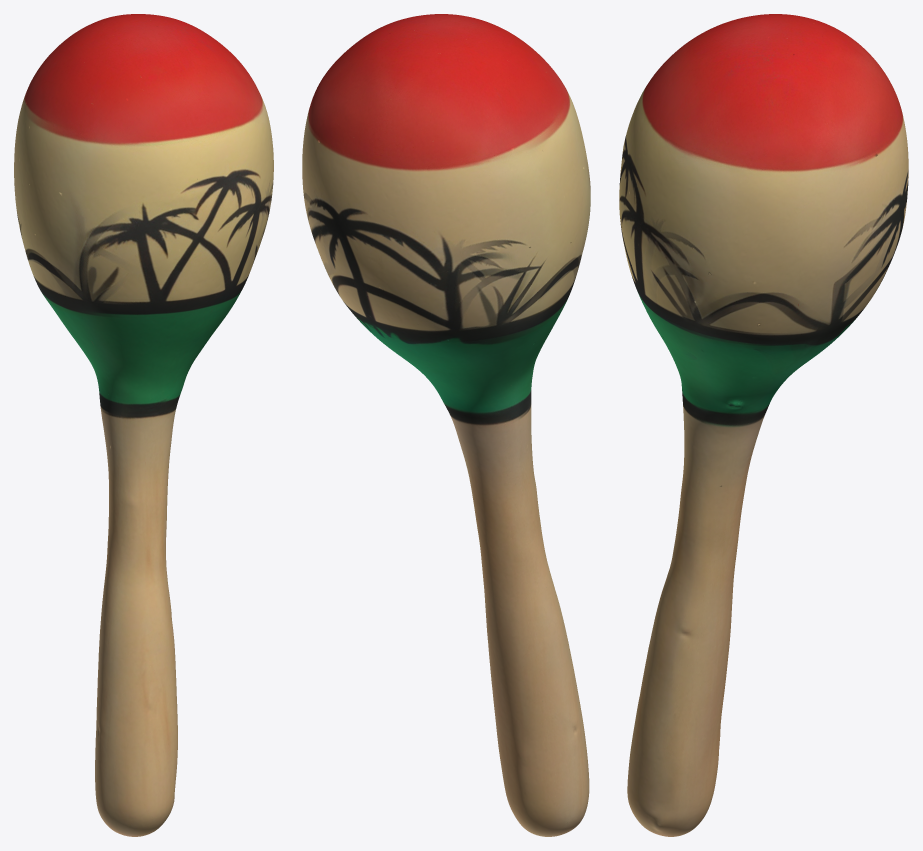
File: 마라카스.glb
The picture shows the model from 3 angles, left to right: view 1: azimuth 30°, elevation 25°; view 2: azimuth 150°, elevation 25°; view 3: azimuth 270°, elevation 25°; orthographic projection. The views are drawn at different scales.
Size of the model in its own units: 0.6192 by 2 by 0.6292.
Materials: 1 (1 with a texture image).
